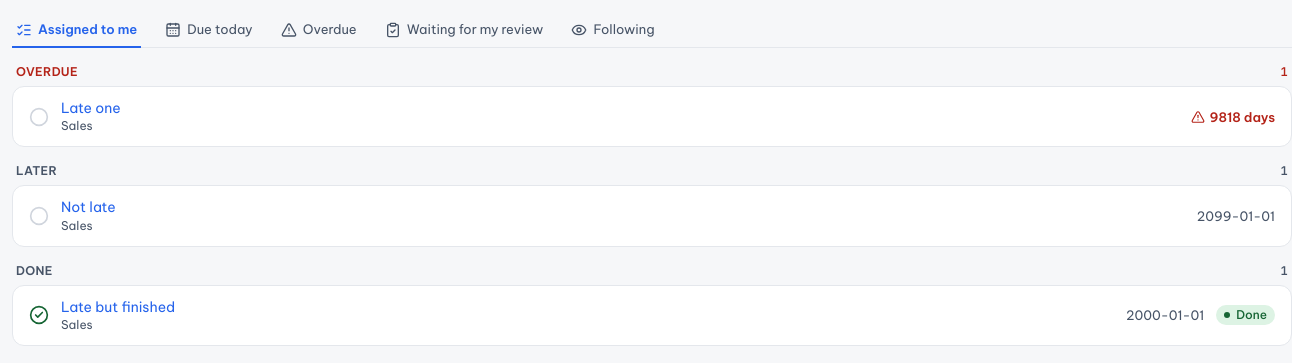
it: MyTasksScreen › groups the assigned tasks by urgency, late ones first
The image size is (1292, 363).
Expected: the link "Late one" is shown, [61,99,121,117]
Expected: the text "9818 days" is shown, [1191,107,1275,127]
Click the tab "Overdue".
click(319, 30)  # box [277,13,361,48]
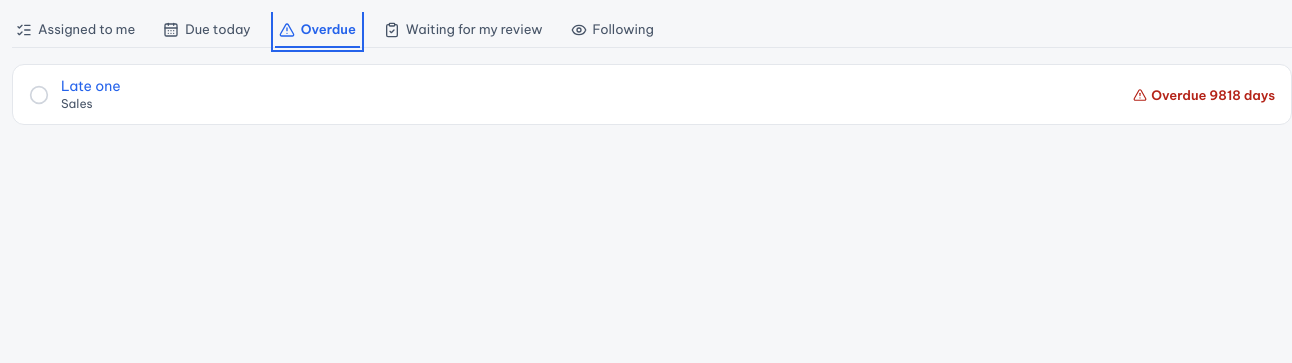
Expected: the link "Late one" is shown, [61,77,121,95]
Expected: the link "Not late" is gone
Expected: the link "Late but finished" is gone
